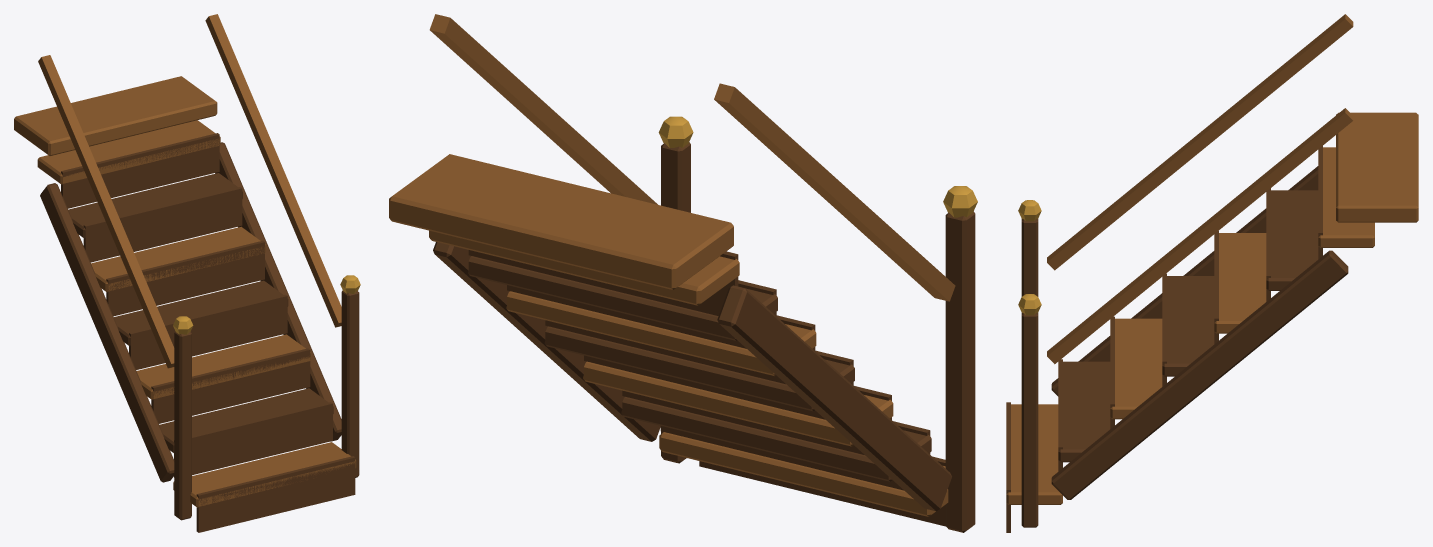
File: PR_Furniture_Merdiven.fbx
3 renders of one model, left to right at view 1: azimuth 30°, elevation 25°; view 2: azimuth 150°, elevation 25°; view 3: azimuth 270°, elevation 25°, orthographic. The views are drawn at different scales.
Parts seen in each view (by area): view 1: PR_Furniture_Merdiven; view 2: PR_Furniture_Merdiven; view 3: PR_Furniture_Merdiven.
Boxes of the visible parts, left/top/right/bottom form: PR_Furniture_Merdiven: left=14, top=14, right=360, bottom=532; PR_Furniture_Merdiven: left=389, top=14, right=977, bottom=532; PR_Furniture_Merdiven: left=1006, top=14, right=1418, bottom=532.
Size of the model in its own units: 1.03 by 1.99 by 1.75.
